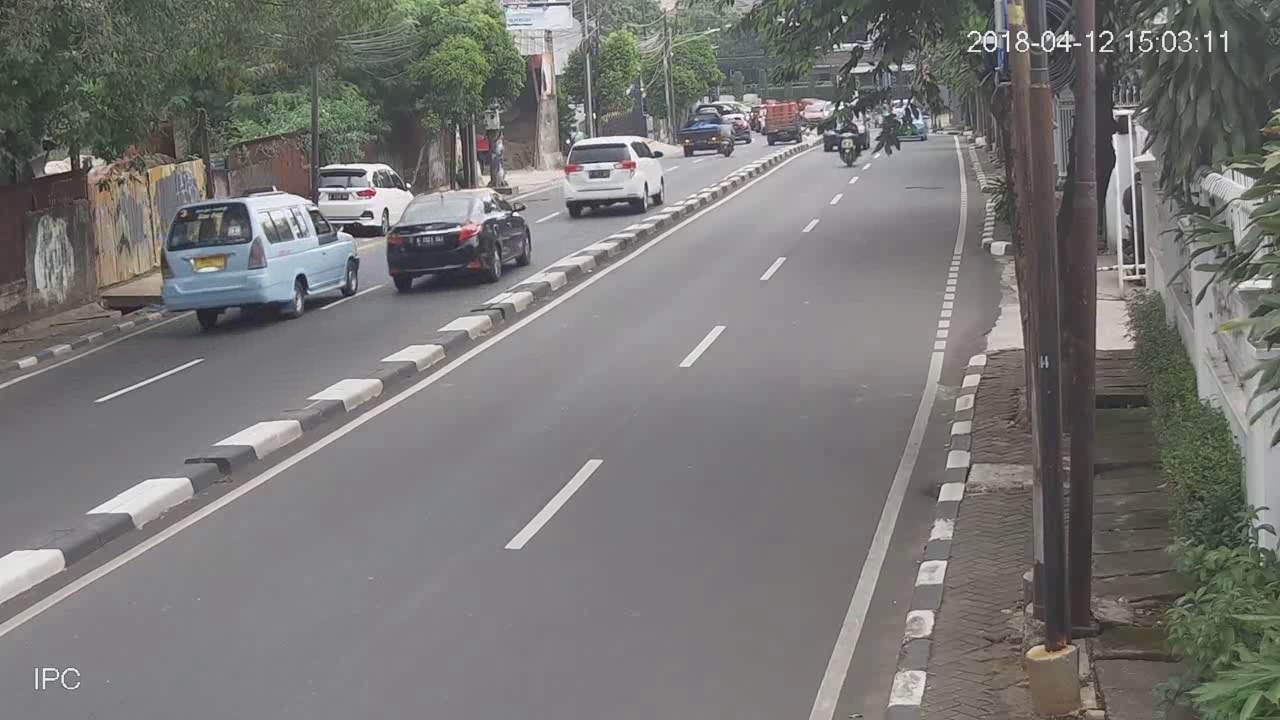car: (157, 191, 363, 330), (383, 189, 532, 290), (559, 136, 668, 214), (309, 160, 392, 238)
